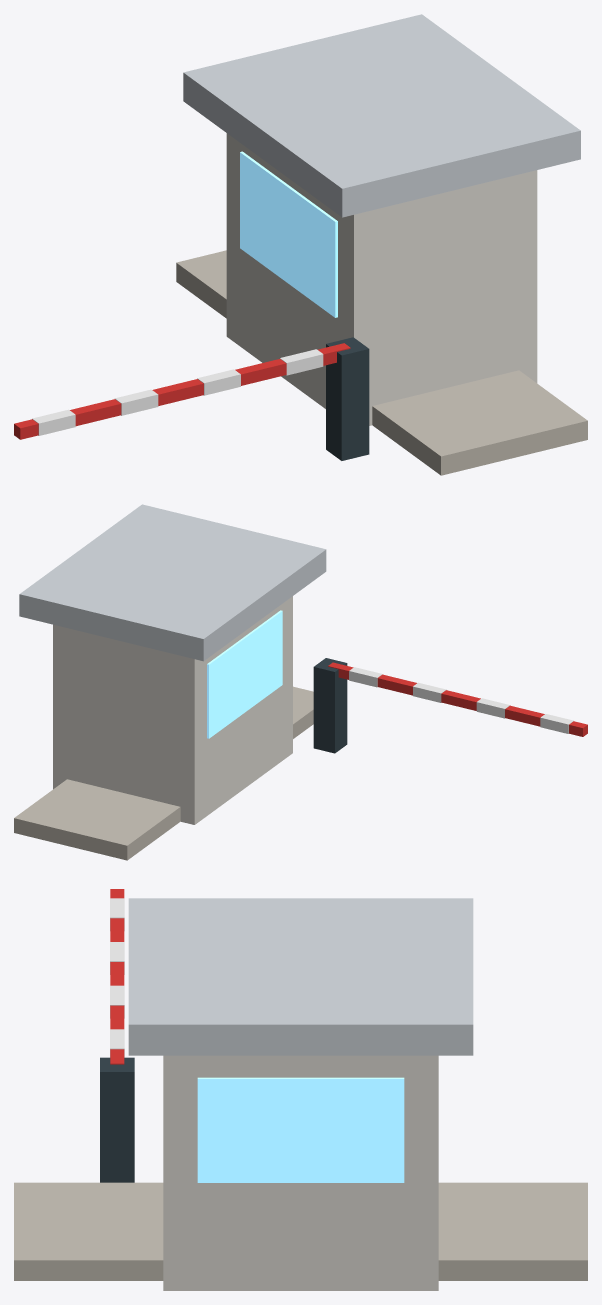
File: airport_booth.glb
The picture shows the model from 3 angles, top to bottom: view 1: azimuth 30°, elevation 25°; view 2: azimuth 150°, elevation 25°; view 3: azimuth 270°, elevation 25°; orthographic projection. The views are drawn at different scales.
Parts seen in each view (by area): view 1: AirportBooth_body; view 2: AirportBooth_body; view 3: AirportBooth_body.
Part boxes in pixels (x1,y1,x2,y2): AirportBooth_body: [14, 14, 587, 475]; AirportBooth_body: [14, 504, 587, 860]; AirportBooth_body: [14, 889, 587, 1290].
Size of the model in its own units: 6.2 by 2.7 by 5.
